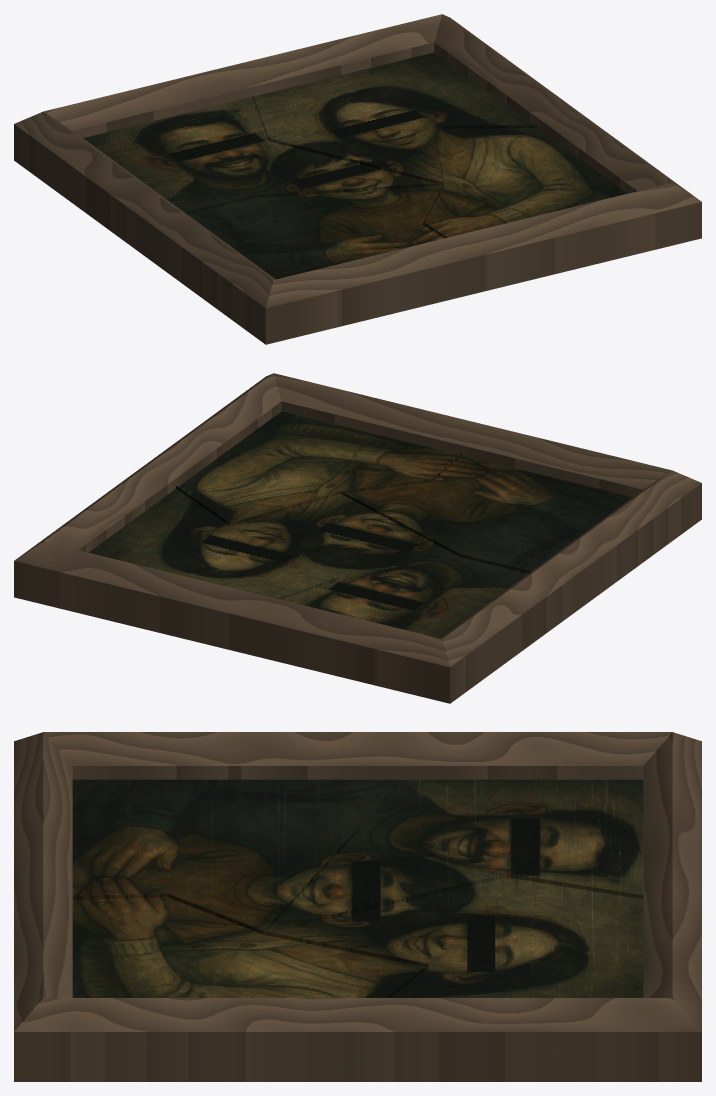
Rendered from Bingkai0.fbx.
3 views of the same model, one above another, from view 1: azimuth 30°, elevation 25°; view 2: azimuth 150°, elevation 25°; view 3: azimuth 270°, elevation 25° (orthographic). The views are drawn at different scales.
Parts seen in each view (by area): view 1: Bingkai, Foto_4, Foto_3, Foto_2, Foto_1; view 2: Bingkai, Foto_2, Foto_4, Foto_3, Foto_1; view 3: Bingkai, Foto_3, Foto_2, Foto_4, Foto_1.
Boxes of the visible parts, <box> form: Bingkai: <box>14,14,701,344</box>; Foto_4: <box>253,52,532,182</box>; Foto_3: <box>83,95,443,212</box>; Foto_2: <box>185,182,447,279</box>; Foto_1: <box>423,125,627,237</box>; Bingkai: <box>14,373,701,703</box>; Foto_2: <box>341,453,632,571</box>; Foto_4: <box>88,486,340,598</box>; Foto_3: <box>276,491,530,638</box>; Foto_1: <box>178,411,459,522</box>; Bingkai: <box>14,732,701,1081</box>; Foto_3: <box>264,779,643,930</box>; Foto_2: <box>72,779,358,930</box>; Foto_4: <box>264,873,643,997</box>; Foto_1: <box>72,893,428,997</box>.
Size of the model in its own units: 43.6 by 5 by 43.6.
2 materials, 2 textured.
